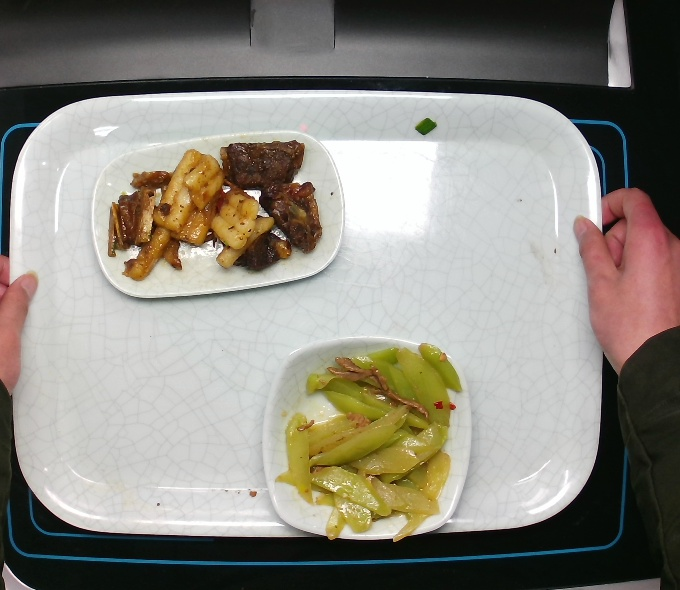wcq-NianGaoZaiPai: (103, 136, 332, 284)
wcq-WoSun: (275, 337, 465, 548)
